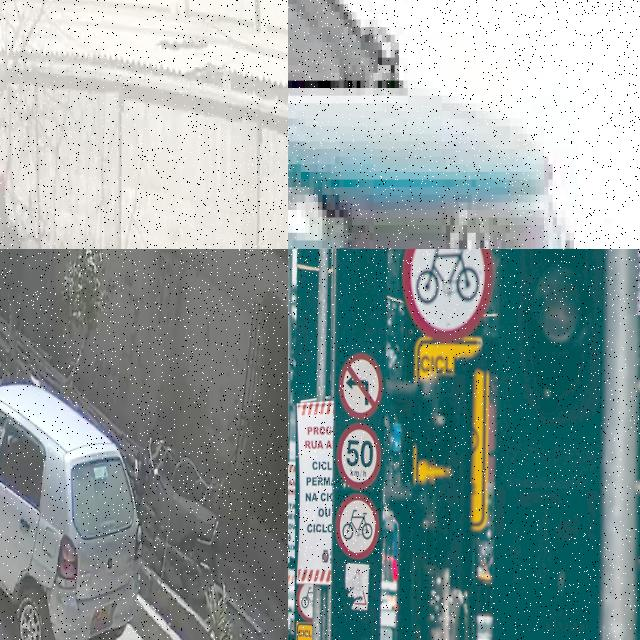bike: (133, 433, 220, 608)
car: (288, 0, 591, 249), (0, 383, 140, 640)
